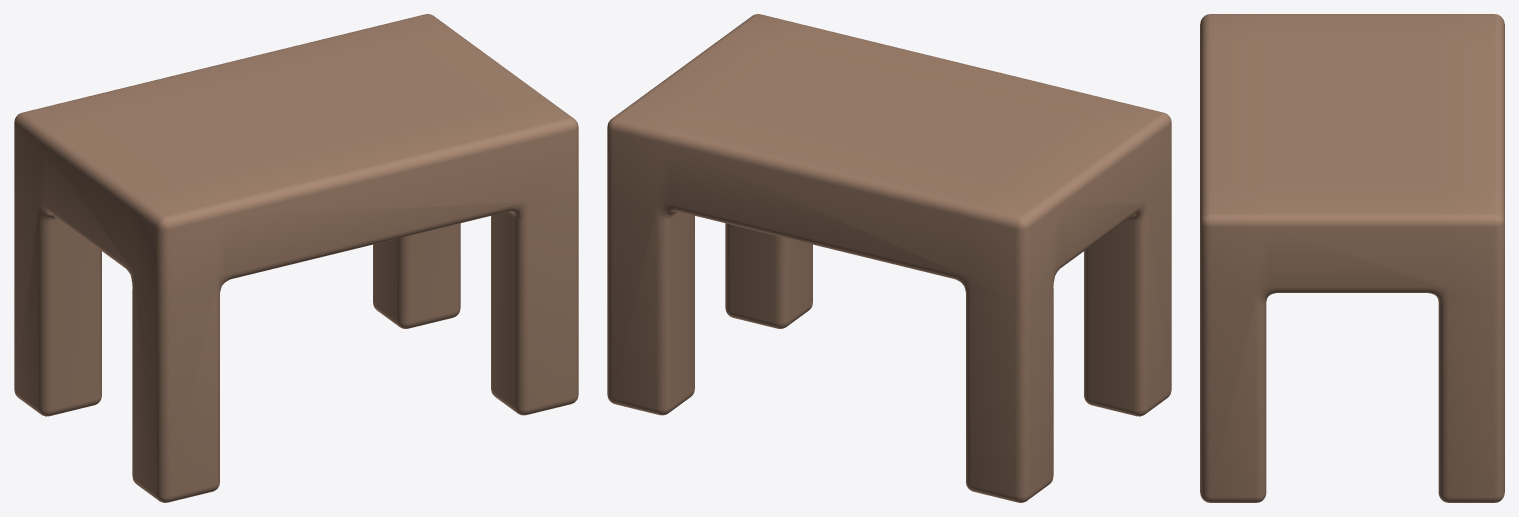
File: table.glb
The picture shows the model from 3 angles, left to right: view 1: azimuth 30°, elevation 25°; view 2: azimuth 150°, elevation 25°; view 3: azimuth 270°, elevation 25°; orthographic projection.
Visible parts, largest first — view 1: Table; view 2: Table; view 3: Table.
Boxes of the visible parts, left/top/right/bottom form: Table: left=14, top=14, right=578, bottom=502; Table: left=607, top=14, right=1171, bottom=502; Table: left=1200, top=14, right=1504, bottom=502.
Size of the model in its own units: 2.32 by 1.51 by 1.44.
